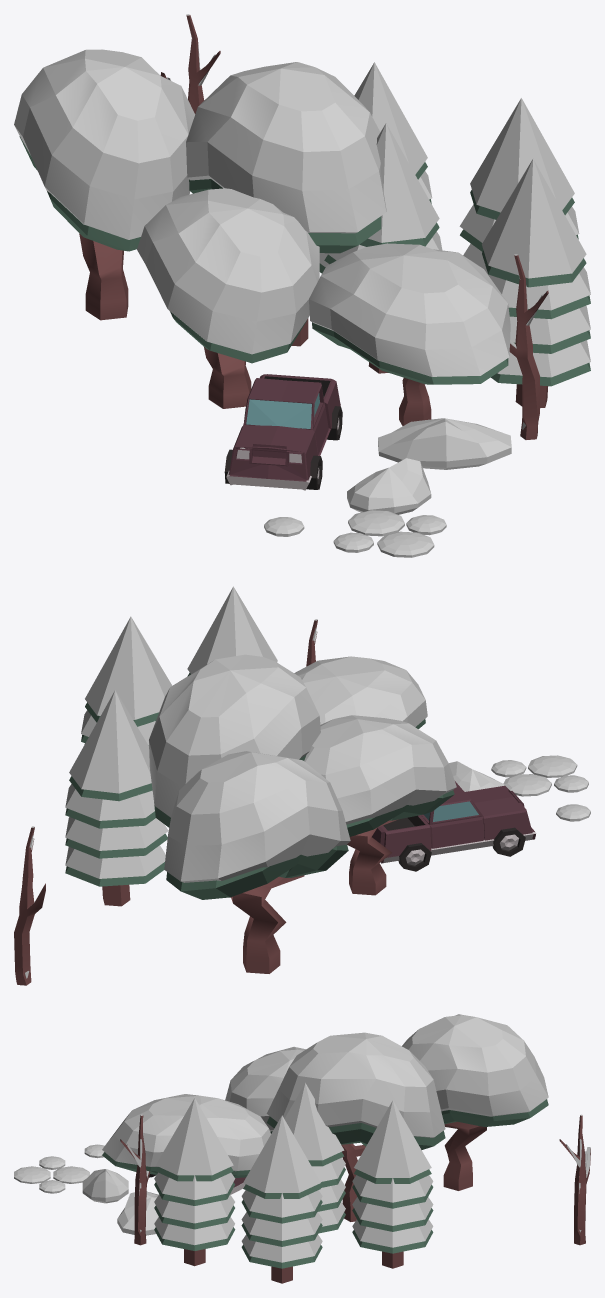
The model's file is WinterAssets.fbx.
3 renders of one model, top to bottom at view 1: azimuth 30°, elevation 25°; view 2: azimuth 150°, elevation 25°; view 3: azimuth 270°, elevation 25°, orthographic. The views are drawn at different scales.
Parts seen in each view (by area): view 1: pSphere3, pCylinder2, WinterTree2:pSphere3, WinterTree1:pCylinder2, WinterTree4:polySurface6, WinterCar1:pCylinder5, polySurface8, pSphere2, polySurface6, pSphere1, polySurface7, WinterTree5:pCylinder3 (+3 smaller); view 2: pSphere3, pCylinder2, polySurface7, WinterTree2:pSphere3, WinterCar1:pCylinder5, WinterTree1:pCylinder2, polySurface8, WinterTree4:polySurface6, pCylinder3, pSphere1, pSphere4, pSphere6; view 3: pCylinder2, pSphere3, polySurface7, polySurface8, WinterTree4:polySurface6, WinterTree1:pCylinder2, polySurface6, WinterTree2:pSphere3, pCylinder3, WinterTree5:pCylinder3, pSphere1, pSphere2 (+2 smaller).
Boxes of the visible parts, box(x1,y1,x2,y2) form: pSphere3: box(14, 49, 195, 320); pCylinder2: box(186, 62, 386, 346); WinterTree2:pSphere3: box(137, 188, 319, 408); WinterTree1:pCylinder2: box(309, 243, 510, 425); WinterTree4:polySurface6: box(482, 158, 590, 408); WinterCar1:pCylinder5: box(224, 374, 342, 490); polySurface8: box(459, 98, 579, 268); pSphere2: box(378, 418, 511, 469); polySurface6: box(324, 123, 442, 373); pSphere1: box(347, 458, 431, 514); polySurface7: box(319, 62, 432, 273); WinterTree5:pCylinder3: box(509, 254, 548, 439); pSphere3: box(164, 751, 350, 973); pCylinder2: box(149, 654, 320, 897); polySurface7: box(65, 690, 168, 906); WinterTree2:pSphere3: box(304, 715, 456, 895); WinterCar1:pCylinder5: box(372, 781, 535, 871); WinterTree1:pCylinder2: box(294, 656, 427, 728); polySurface8: box(81, 616, 172, 745); WinterTree4:polySurface6: box(187, 586, 277, 676); pCylinder3: box(14, 826, 45, 985); pSphere1: box(449, 761, 504, 791); pSphere4: box(528, 755, 577, 777); pSphere6: box(503, 774, 551, 796); pCylinder2: box(266, 1032, 445, 1221); pSphere3: box(402, 1014, 548, 1190); polySurface7: box(352, 1100, 433, 1268); polySurface8: box(241, 1115, 322, 1283); WinterTree4:polySurface6: box(154, 1098, 235, 1266); WinterTree1:pCylinder2: box(102, 1094, 270, 1177); polySurface6: box(284, 1083, 345, 1233); WinterTree2:pSphere3: box(225, 1046, 305, 1133); pCylinder3: box(559, 1114, 590, 1245); WinterTree5:pCylinder3: box(120, 1114, 150, 1245); pSphere1: box(82, 1169, 128, 1203); pSphere2: box(117, 1191, 158, 1235).
Size of what is drawn, in the model's own units: 17.53 by 10.52 by 29.28.
